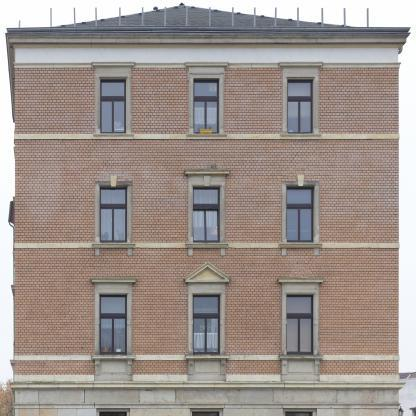Building Outline: (5, 2, 411, 416)
Cornice: (183, 262, 231, 284), (184, 169, 231, 177), (277, 277, 325, 284), (278, 61, 324, 68), (91, 61, 135, 68), (185, 61, 229, 68), (90, 278, 137, 284), (297, 175, 305, 186), (110, 176, 117, 186)
Facade: (14, 28, 399, 416)
Floor: (15, 273, 399, 388), (15, 162, 399, 267), (15, 395, 399, 416)
Floor Slab: (15, 156, 399, 162), (15, 267, 399, 273), (15, 389, 399, 395)
Roof: (6, 5, 411, 32)
Sill: (278, 355, 324, 375), (185, 355, 230, 375), (91, 355, 136, 375), (185, 242, 229, 248), (279, 242, 323, 248), (92, 243, 135, 248), (280, 134, 322, 139), (93, 134, 134, 139), (187, 134, 227, 139)
Top Floor: (15, 44, 399, 156)
Window: (287, 294, 314, 355), (100, 294, 127, 355), (193, 294, 220, 355), (286, 186, 314, 242), (100, 187, 127, 242), (193, 187, 220, 242), (288, 78, 314, 133), (100, 79, 126, 133), (194, 79, 220, 133), (285, 412, 313, 416), (99, 412, 127, 416), (192, 412, 220, 416)
